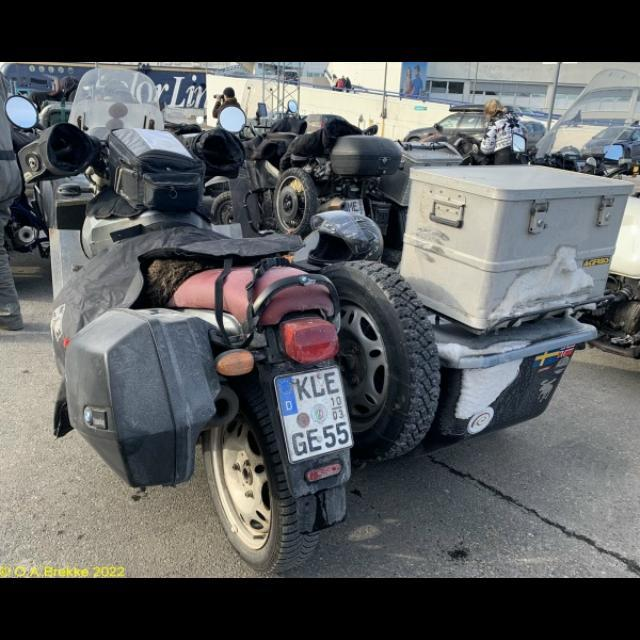license-plates: (275, 367, 353, 464)
